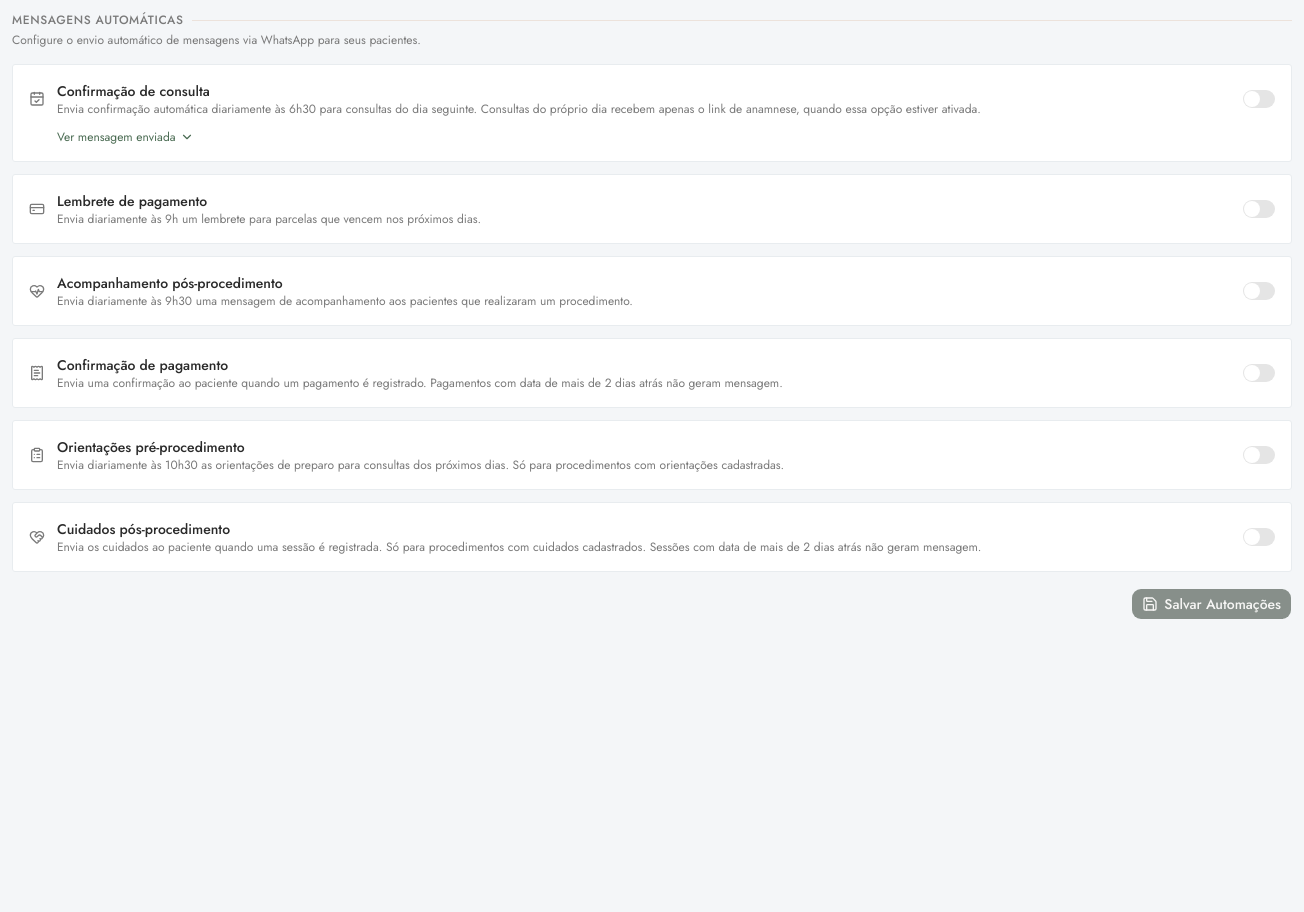
Test: WhatsAppAutomations in FloraClin mode › previews the message an automation sends, naming its variables next to a filled example
Click the button "Ver mensagem enviada" at {"x": 125, "y": 137}, box [57,129,194,145]
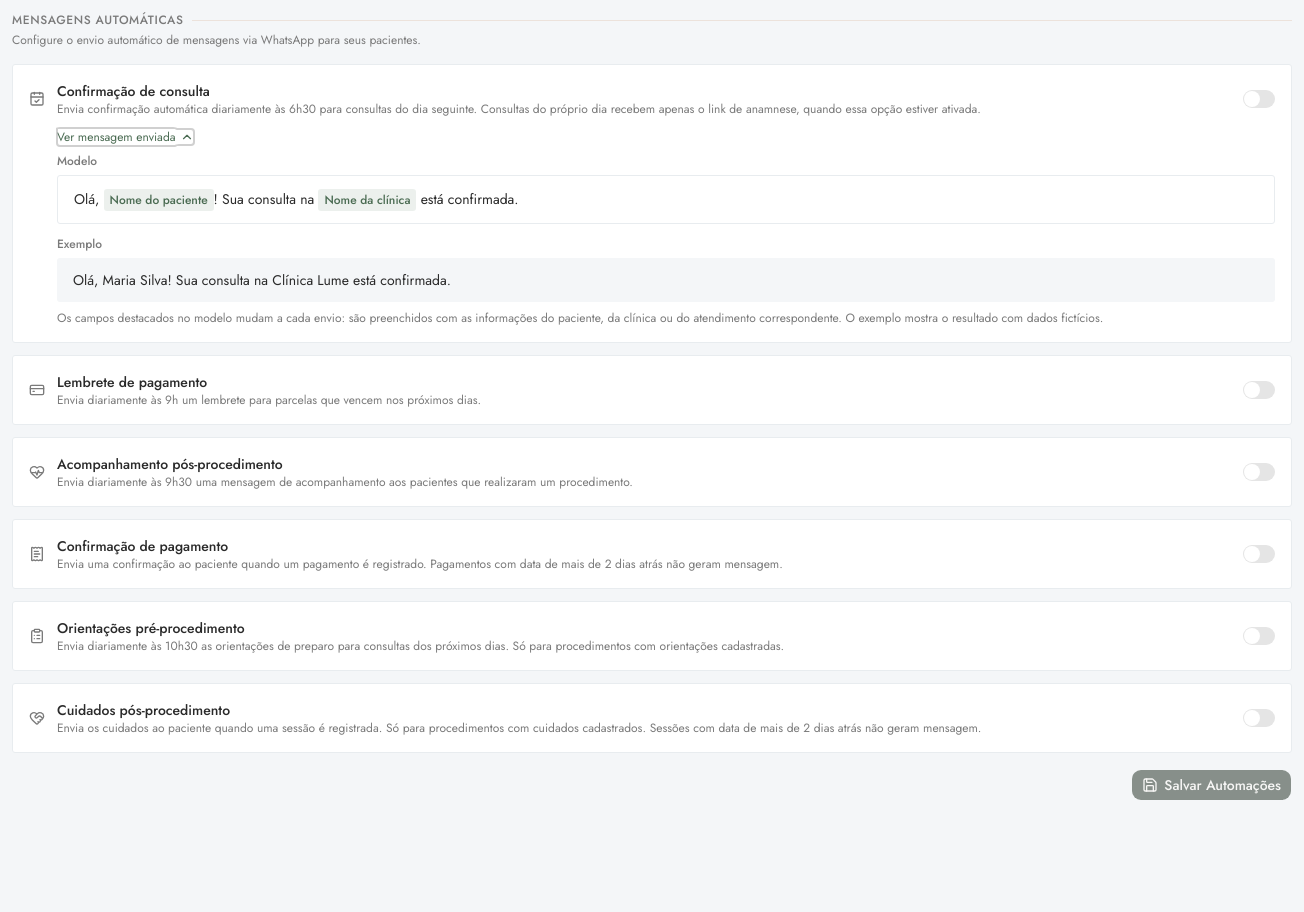
Now the text "Nome do paciente" is shown, box [104,189,214,211]
Now the text "Nome da clínica" is shown, box [318,189,416,211]
Now the text "Olá, Maria Silva! Sua consulta na Clínica Lume está confirmada." is shown, box [73,270,451,290]
